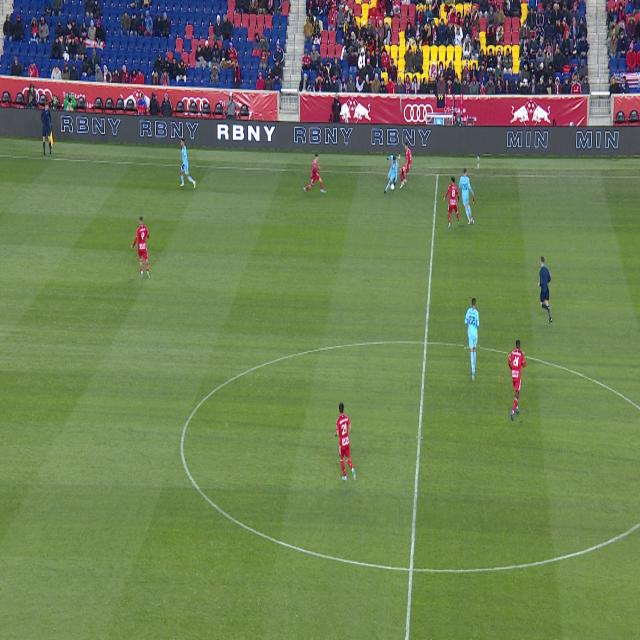football: (390, 184, 395, 191)
player: (334, 403, 356, 481), (464, 298, 480, 381), (509, 341, 525, 421), (131, 216, 151, 279), (303, 154, 326, 193), (443, 177, 460, 228), (459, 169, 474, 225), (180, 139, 196, 188), (399, 142, 412, 189), (384, 154, 398, 194)
referee: (538, 256, 552, 323)
